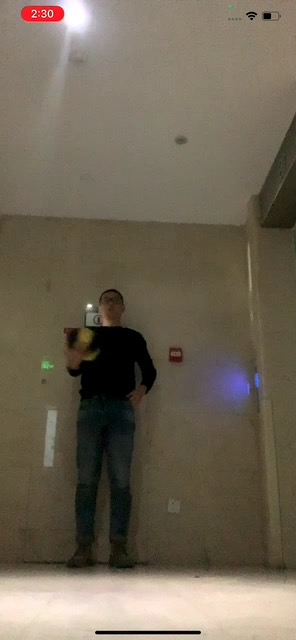ball: (63, 327, 98, 367)
